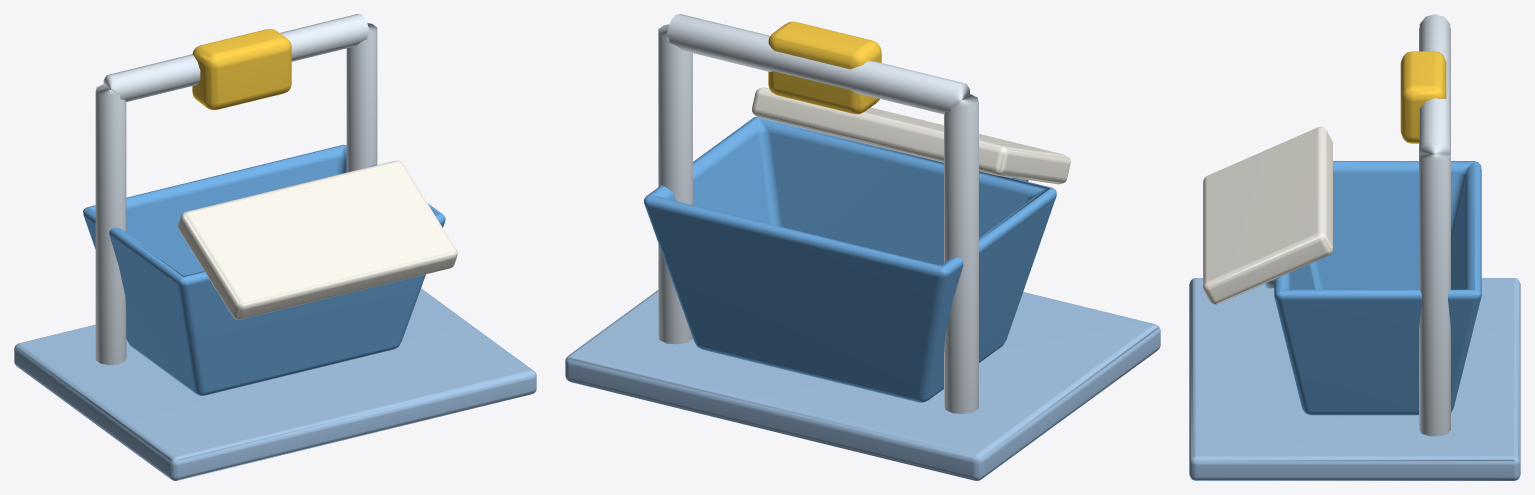
Rendered from pcv_deadletter_return_basket.glb.
3 views of the same model, side by side, from view 1: azimuth 30°, elevation 25°; view 2: azimuth 150°, elevation 25°; view 3: azimuth 270°, elevation 25° (orthographic). The views are drawn at different scales.
Visible parts, largest first — view 1: pcv_deadletter_return_basket_MOBILE_JOINED; view 2: pcv_deadletter_return_basket_MOBILE_JOINED; view 3: pcv_deadletter_return_basket_MOBILE_JOINED.
Part boxes in pixels (box(x1,y1,x2,y2)): pcv_deadletter_return_basket_MOBILE_JOINED: box(14, 14, 536, 480); pcv_deadletter_return_basket_MOBILE_JOINED: box(565, 14, 1160, 480); pcv_deadletter_return_basket_MOBILE_JOINED: box(1189, 14, 1520, 480).
Size of the model in its own units: 1.9 by 1.56 by 1.45.
